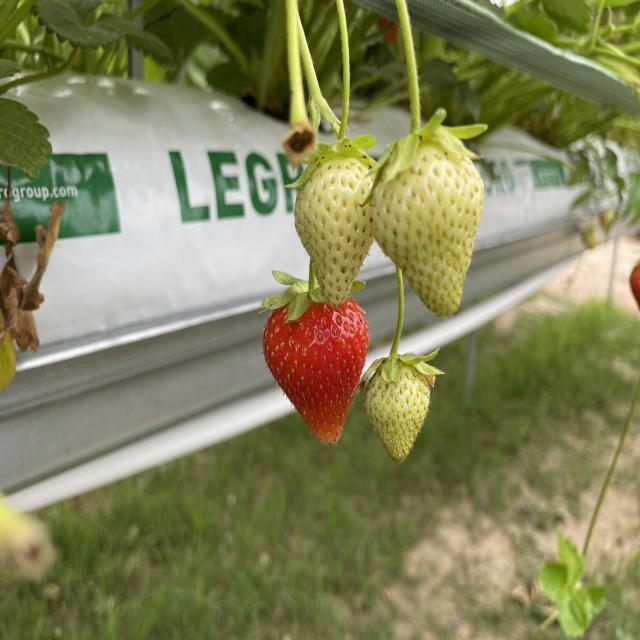stem: (378, 0, 484, 184), (308, 0, 375, 176), (361, 268, 444, 386), (261, 264, 326, 322)
strawberryNR: (372, 144, 484, 316), (295, 156, 372, 304), (364, 359, 430, 462)
strawberryR: (264, 299, 368, 444)
